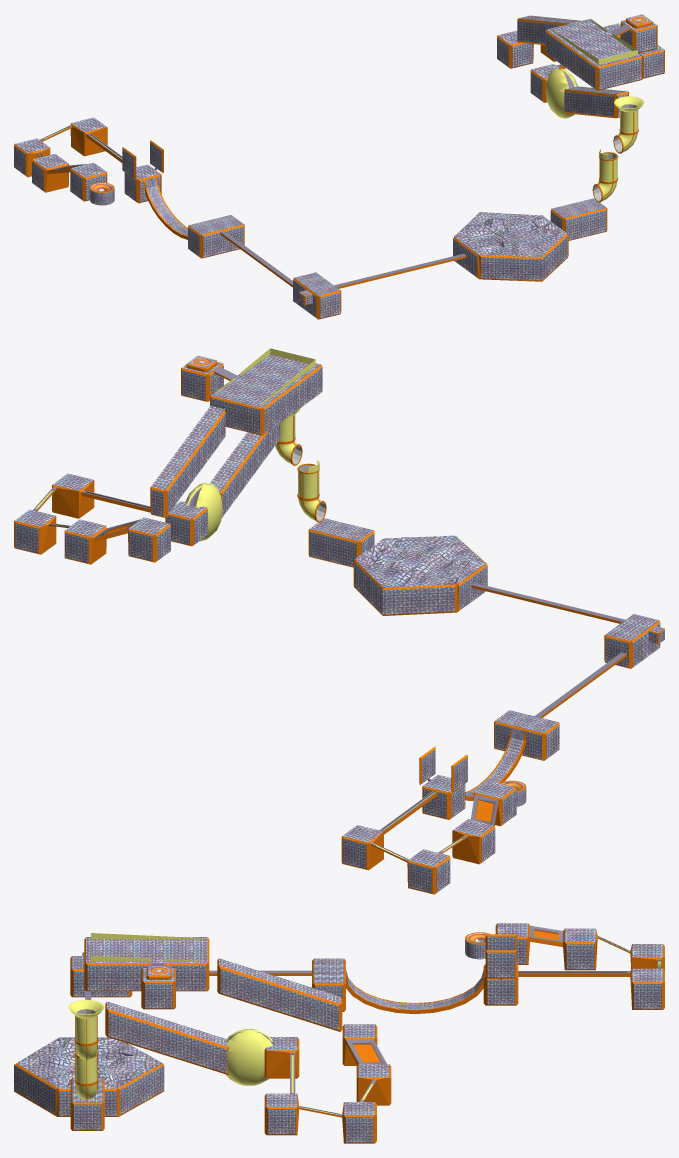
The model's file is Level34.fbx.
3 renders of one model, top to bottom at view 1: azimuth 30°, elevation 25°; view 2: azimuth 150°, elevation 25°; view 3: azimuth 270°, elevation 25°, orthographic. The views are drawn at different scales.
Parts seen in each view (by area): view 1: Level34; view 2: Level34; view 3: Level34.
Part boxes in pixels (x1,y1,x2,y2): Level34: (14, 14, 664, 319); Level34: (14, 348, 664, 894); Level34: (14, 923, 664, 1143).
Bounding box in the file's own units: 6522 × 2576 × 6244.
12 materials, 5 textured.
